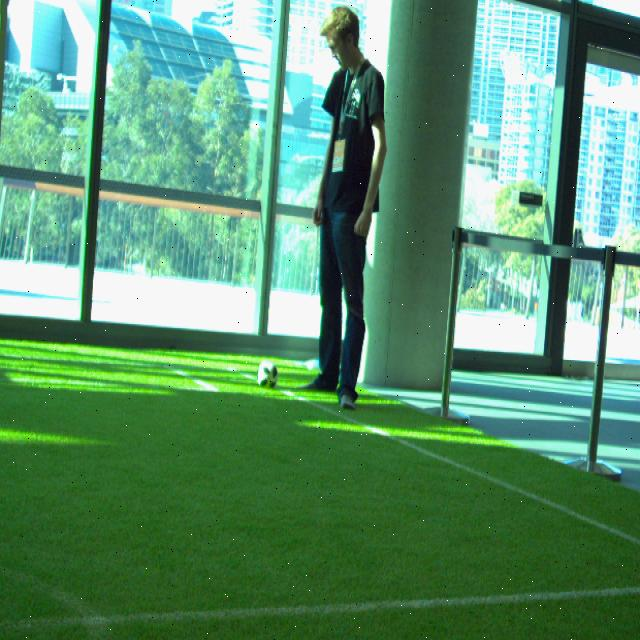ball: (258, 362, 278, 389)
